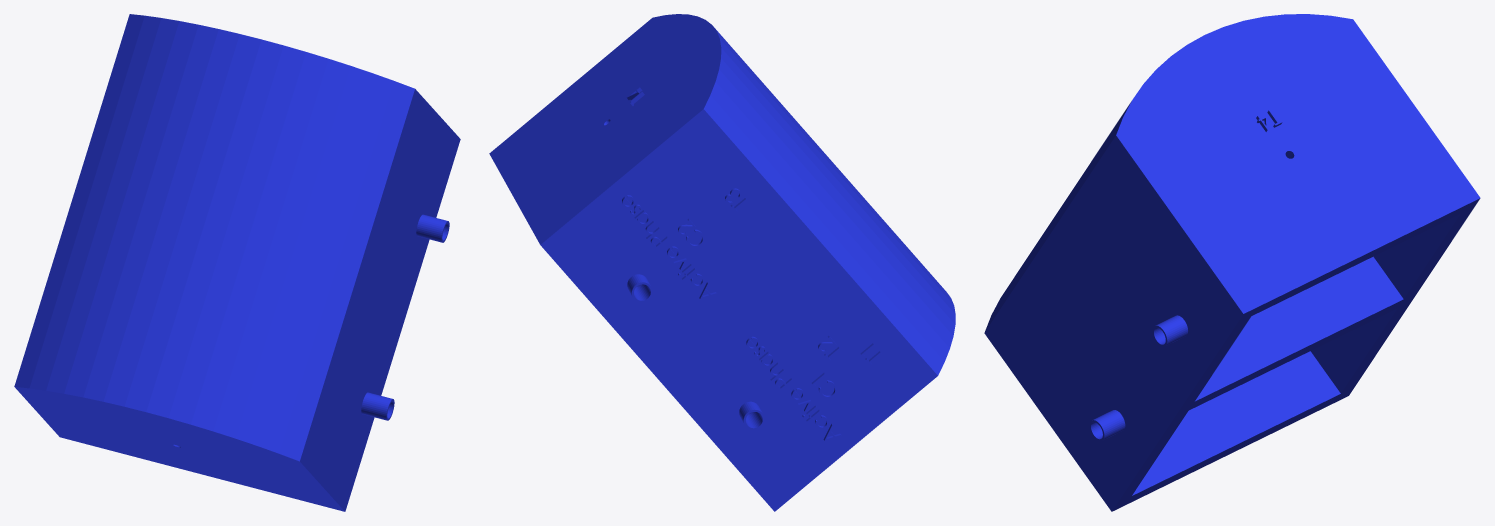
The picture shows the model from 3 angles, left to right: view 1: azimuth 30°, elevation 25°; view 2: azimuth 150°, elevation 25°; view 3: azimuth 270°, elevation 25°; orthographic projection. The views are drawn at different scales.
Parts seen in each view (by area): view 1: Part1; view 2: Part1; view 3: Part1.
Boxes of the visible parts, x1,y1,x2,y2 form: Part1: [14, 14, 460, 511]; Part1: [489, 14, 955, 511]; Part1: [984, 14, 1480, 511].
Size of the model in its own units: 587 by 554 by 541.
